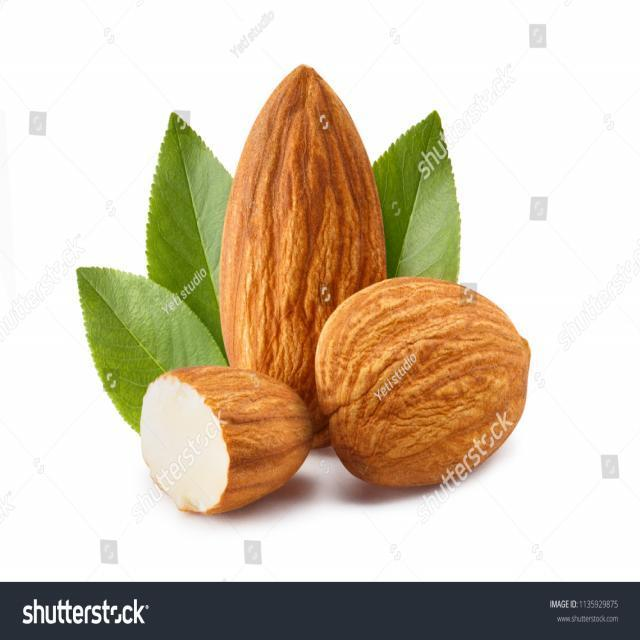almond: (220, 67, 390, 457), (318, 274, 532, 494)
